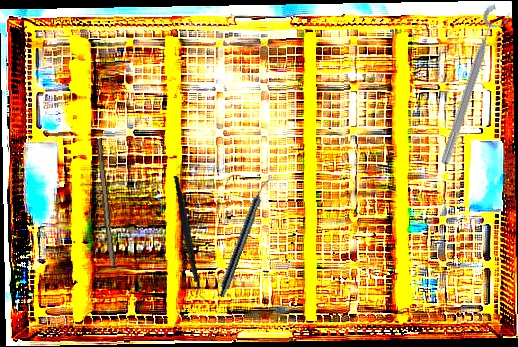Chopper: (154, 175, 228, 302)
Fixation Ring: (435, 1, 514, 170)
Handpiece: (216, 176, 272, 300)
Scalpel Handle: (92, 138, 118, 267)
